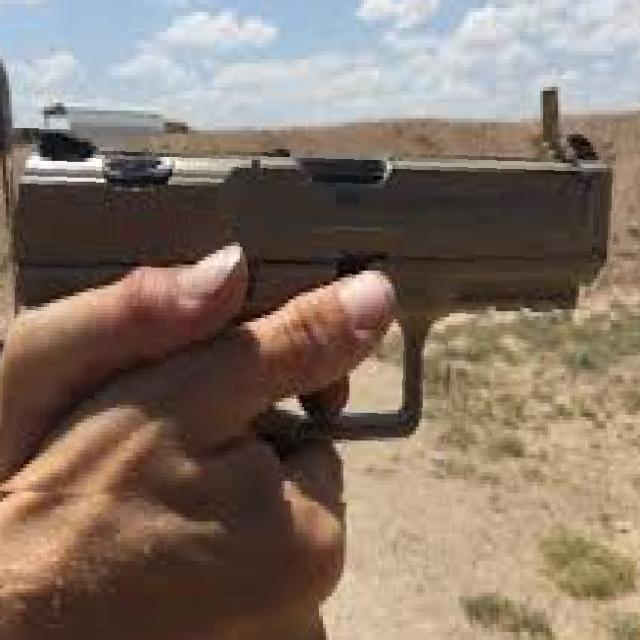Gun_Holder: (29, 112, 640, 639)
